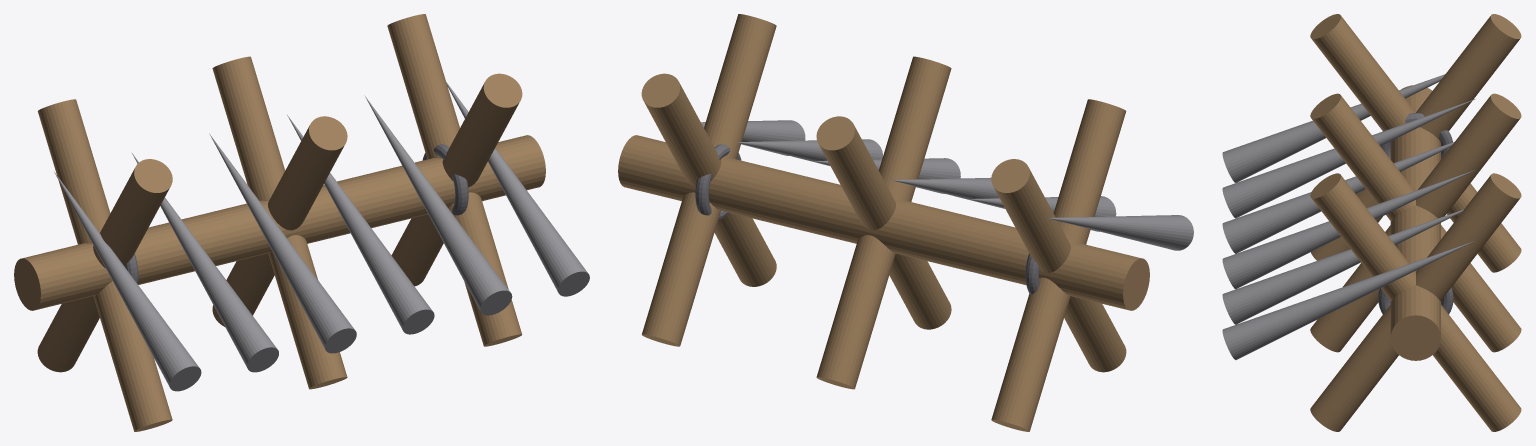
File: spiked_barricade.glb
The picture shows the model from 3 angles, left to right: view 1: azimuth 30°, elevation 25°; view 2: azimuth 150°, elevation 25°; view 3: azimuth 270°, elevation 25°; orthographic projection. The views are drawn at different scales.
Visible parts, largest first — view 1: Cylinder, Cylinder.002, Cylinder.004, Cylinder.006, Cylinder.001, Cylinder.005, Cylinder.003, Cone.002, Cone.004, Cone, Cone.001, Cone.003 (+2 smaller); view 2: Cylinder, Cylinder.003, Cylinder.001, Cylinder.005, Cylinder.004, Cylinder.002, Cylinder.006, Cone, Cone.002, Cone.004, Cone.005, Cone.003 (+2 smaller); view 3: Cylinder.006, Cylinder.005, Cylinder.003, Cylinder.004, Cylinder, Cylinder.001, Cylinder.002, Cone.005, Cone.004, Cone.001, Cone.003, Cone.002 (+3 smaller).
Part boxes in pixels (x1,y1,x2,y2): Cylinder: (14,135,545,310); Cylinder.002: (37,99,172,431); Cylinder.004: (212,56,347,389); Cylinder.006: (387,14,522,346); Cylinder.001: (37,159,172,372); Cylinder.005: (391,73,522,286); Cylinder.003: (212,116,347,326); Cone.002: (209,133,356,353); Cone.004: (364,95,512,315); Cone: (54,172,201,391); Cone.001: (131,152,278,372); Cone.003: (287,115,434,334); Cylinder: (618,135,1149,310); Cylinder.003: (816,56,951,389); Cylinder.001: (991,99,1126,431); Cylinder.005: (641,14,776,346); Cylinder.004: (816,116,951,329); Cylinder.002: (991,159,1126,372); Cylinder.006: (641,73,776,286); Cone: (1047,215,1193,250); Cone.002: (891,177,1004,208); Cone.004: (735,139,882,166); Cone.005: (701,120,805,155); Cone.003: (813,158,960,193); Cylinder.006: (1310,173,1521,431); Cylinder.005: (1310,173,1521,431); Cylinder.003: (1310,93,1521,352); Cylinder.004: (1310,93,1521,352); Cylinder: (1390,85,1440,360); Cylinder.001: (1310,14,1521,272); Cylinder.002: (1311,14,1521,260); Cone.005: (1222,241,1474,359); Cone.004: (1222,209,1463,324); Cone.001: (1222,99,1475,218); Cone.003: (1222,170,1474,289); Cone.002: (1222,142,1454,253).
Size of the model in its own units: 2.6 by 1.33 by 1.43.
